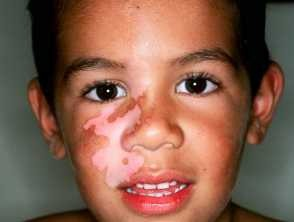Melasma: (103, 28, 178, 146), (215, 124, 236, 189)
